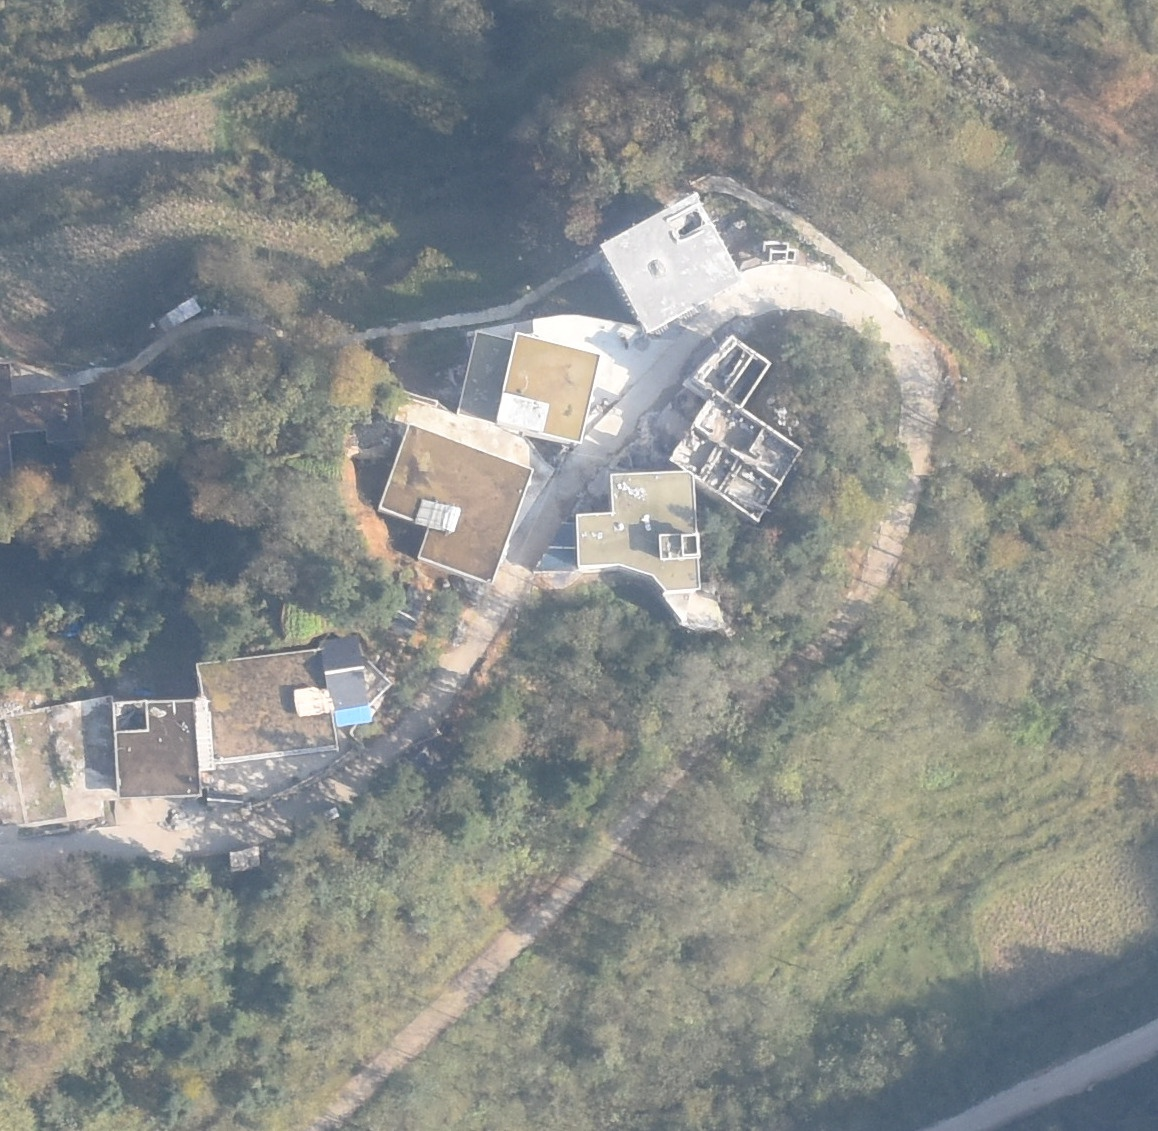building: (377, 423, 537, 584), (599, 190, 744, 335), (195, 647, 341, 764), (453, 330, 601, 444), (673, 394, 807, 518), (2, 689, 113, 831), (575, 470, 703, 591), (112, 697, 203, 798), (319, 636, 392, 724), (692, 335, 775, 408)
